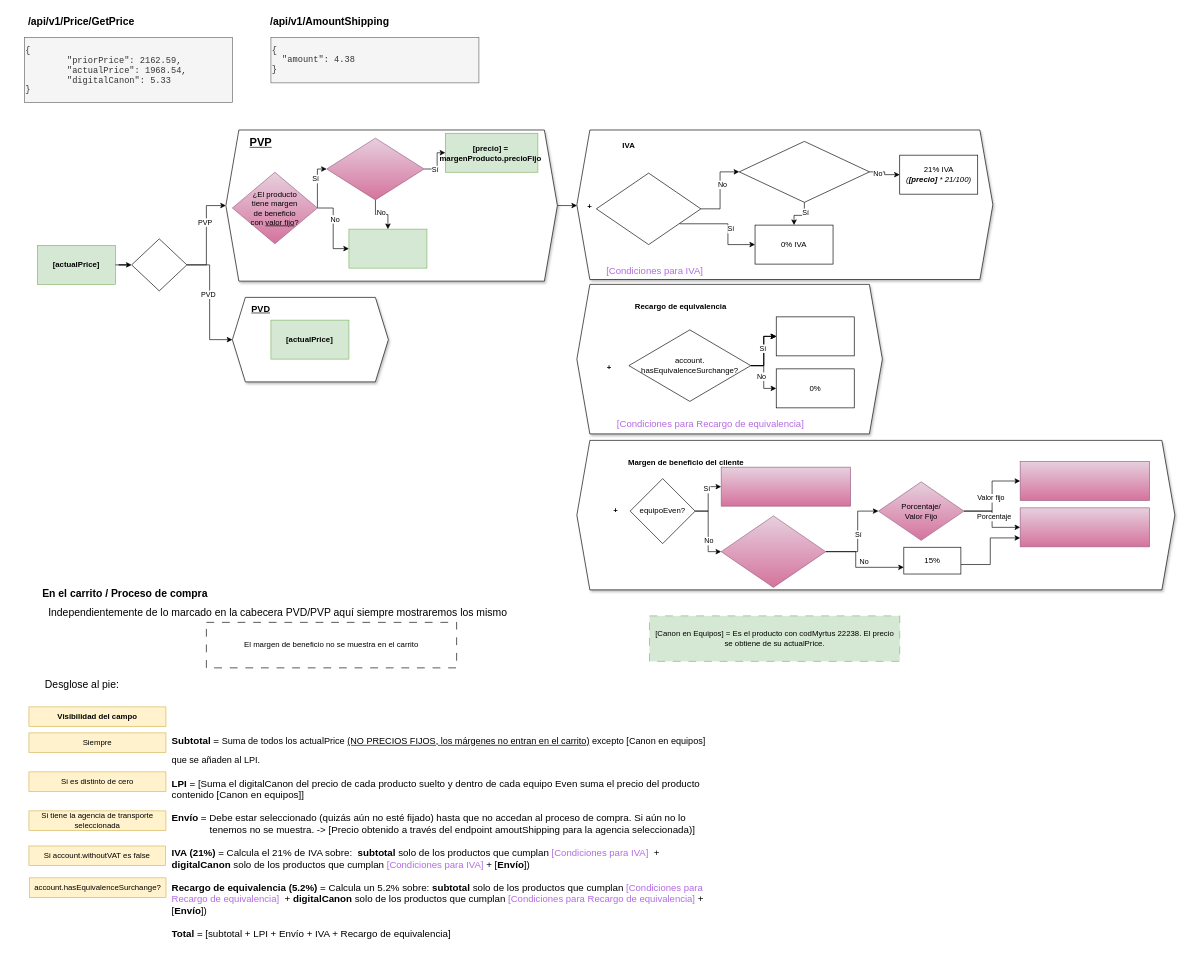
This 1190x965 diagram has some shape labels left out. Here are the shapes that lost their labels. From the top down, the centre of each, then its label:
At (x=375, y=168): "margenProducto.precioFijo > [ actualPrice ]".
At (x=804, y=171): "account.isReseller && product. reverseChargeProcedure".
At (x=648, y=208): "account.withoutVAT?".
At (x=159, y=264): "¿PVP / PVD?".
At (x=387, y=248): "[precio] = [actualPrice]".
At (x=815, y=336): "5.2% ([ precio] * 5.2/100)".
At (x=786, y=486): "[actualPrice] / (1-([account.marginConfigurador ]/100))".
At (x=1085, y=480): "0 (el precio ya está aplicado)".
At (x=1085, y=527): "[actualPrice] / (1-([margenProducto.porcentaje]/100))".
At (x=773, y=551): "¿El producto tiene margen de beneficio?".
